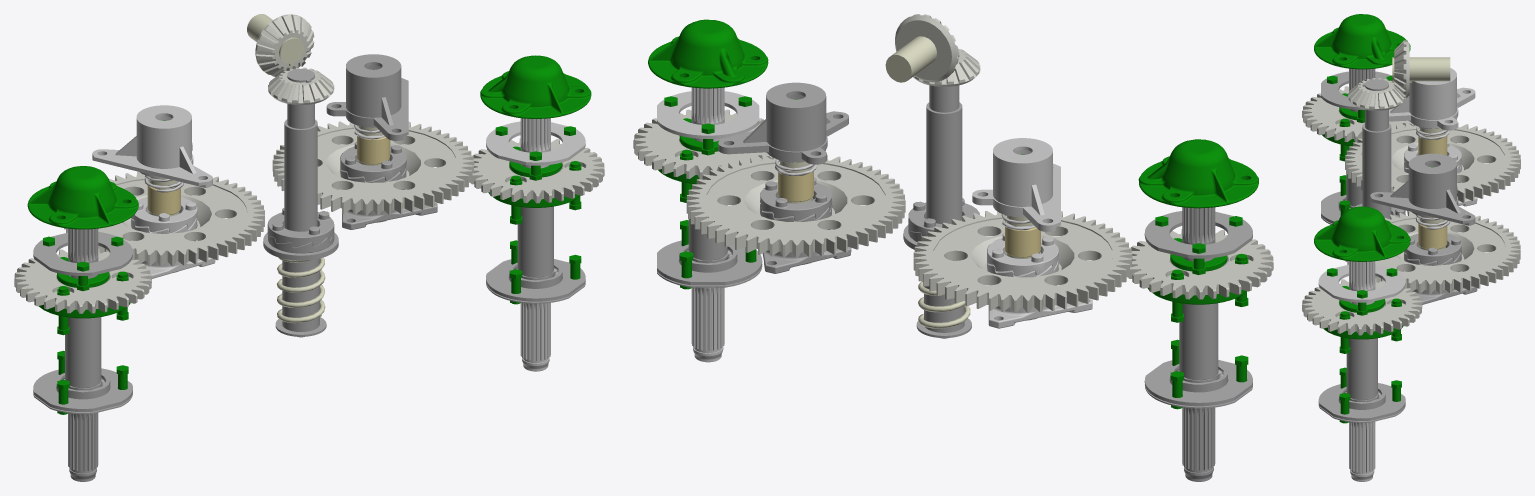
Rendered from chat-gearbox.glb.
3 renders of one model, left to right at view 1: azimuth 30°, elevation 25°; view 2: azimuth 150°, elevation 25°; view 3: azimuth 270°, elevation 25°, orthographic. The views are drawn at different scales.
Visible parts, largest first — view 1: Group (×5), body_10_instance_1, body_10_instance_0, body_6, body_12, body_19_instance_1, body_19_instance_0, body_25_instance_1, body_25_instance_0, body_30, body_27_instance_1, body_27_instance_0 (+16 smaller); view 2: Group (×5), body_10_instance_1, body_10_instance_0, body_19_instance_0, body_19_instance_1, body_6, body_12, body_25_instance_1, body_30, body_25_instance_0, body_27_instance_1, body_24_instance_2 (+15 smaller); view 3: Group (×6), body_10_instance_1, body_10_instance_0, body_19_instance_0, body_19_instance_1, body_25_instance_0, body_6, body_30, body_12, body_27_instance_0, body_25_instance_1, body_24_instance_0 (+15 smaller).
Boxes of the visible parts, box(x1,y1,x2,y2) form: Group (×5): box(68, 54, 585, 481); body_10_instance_1: box(272, 121, 474, 215); body_10_instance_0: box(64, 171, 264, 266); body_6: box(92, 105, 212, 187); body_12: box(275, 119, 326, 337); body_19_instance_1: box(27, 166, 138, 229); body_19_instance_0: box(480, 55, 591, 118); body_25_instance_1: box(14, 248, 151, 313); body_25_instance_0: box(470, 138, 604, 203); body_30: box(520, 118, 550, 371); body_27_instance_1: box(65, 317, 101, 388); body_27_instance_0: box(517, 206, 553, 277); Group (×5): box(657, 82, 1215, 481); body_10_instance_1: box(686, 155, 905, 257); body_10_instance_0: box(913, 211, 1132, 312); body_19_instance_0: box(648, 19, 768, 88); body_19_instance_1: box(1138, 139, 1258, 208); body_6: box(972, 138, 1060, 231); body_12: box(916, 102, 971, 338); body_25_instance_1: box(1128, 229, 1273, 299); body_30: box(691, 87, 724, 362); body_25_instance_0: box(633, 109, 773, 179); body_27_instance_1: box(1179, 303, 1218, 380); body_24_instance_2: box(1144, 211, 1252, 258); Group (×6): box(1318, 68, 1477, 304); body_10_instance_1: box(1345, 211, 1520, 294); body_10_instance_0: box(1345, 122, 1520, 202); body_19_instance_0: box(1314, 206, 1410, 261); body_19_instance_1: box(1314, 14, 1410, 69); body_25_instance_0: box(1302, 278, 1422, 335); body_6: box(1389, 68, 1475, 130); body_30: box(1349, 261, 1375, 481); body_12: box(1362, 123, 1391, 218); body_27_instance_0: box(1346, 338, 1377, 400); body_25_instance_1: box(1302, 86, 1414, 142); body_24_instance_0: box(1318, 383, 1405, 420).
Bounding box in the file's own units: 0.0298 × 0.0193 × 0.0113.
